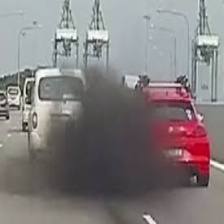smoke: (71, 86, 154, 190)
